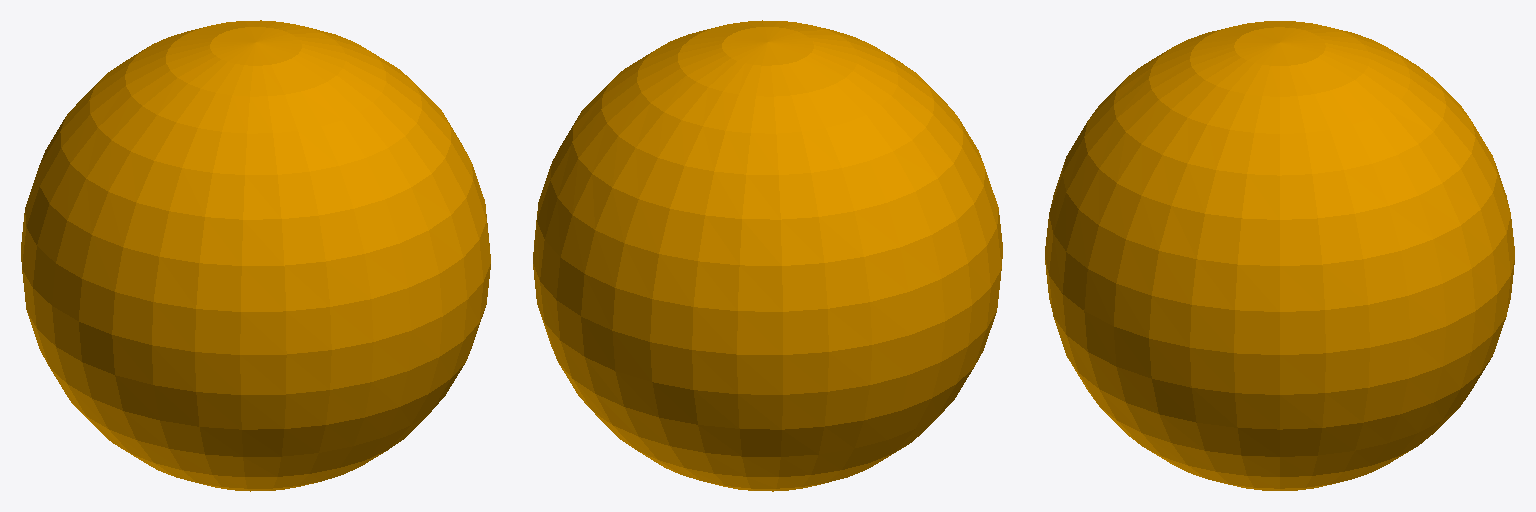
URDF robot description (light_kitchen):
<?xml version="1.0" ?>

<robot name="light_kitchen" xmlns:xi="http://www.w3.org/2001/XInclude"
	xmlns:gazebo="http://playerstage.sourceforge.net/gazebo/xmlschema/#gz"
	xmlns:model="http://playerstage.sourceforge.net/gazebo/xmlschema/#model"
	xmlns:sensor="http://playerstage.sourceforge.net/gazebo/xmlschema/#sensor"
	xmlns:body="http://playerstage.sourceforge.net/gazebo/xmlschema/#body"
	xmlns:geom="http://playerstage.sourceforge.net/gazebo/xmlschema/#geom"
	xmlns:joint="http://playerstage.sourceforge.net/gazebo/xmlschema/#joint"
	xmlns:interface="http://playerstage.sourceforge.net/gazebo/xmlschema/#interface"
	xmlns:rendering="http://playerstage.sourceforge.net/gazebo/xmlschema/#rendering"
	xmlns:renderable="http://playerstage.sourceforge.net/gazebo/xmlschema/#renderable"
	xmlns:controller="http://playerstage.sourceforge.net/gazebo/xmlschema/#controller"
	xmlns:physics="http://playerstage.sourceforge.net/gazebo/xmlschema/#physics">

  <link name="bulb_kitchen">
   <inertial>
	<mass value="1" />
			<com xyz="1.81 3.59 2.15" />
			<inertia ixx="0" ixy="0.0" ixz="0.0" iyy="0" iyz="0.0" izz="0" />
		</inertial>

		<visual>
			<origin xyz="1.81 3.59 2.15" rpy="0 0 0" />  <!--   definition of the visual postion of the object!! -->
			<geometry>
				<sphere radius="0.0001" />
			</geometry>
		</visual>
		<collision>
			<origin xyz="1.81 3.59 2.15" rpy="0 0 0" />
			<geometry>
				<sphere radius="0.0001" />
			</geometry>
		</collision>
	</link>

	<gazebo reference="bulb_kitchen">
		<model:renderable name="light_kitchen">
			<xyz>1.81 3.59 2.15</xyz>
			<static>true</static>
			<light>
				<type>point</type>
				<diffuseColor>0.1 0.1 0.1</diffuseColor>
				<specularColor>.01 .01 .01</specularColor>
				<attenuation>0.1 0.1 0.0001</attenuation>
				<range>4</range>
			</light>
		</model:renderable>
	</gazebo>
</robot>

--- What the picture shows (computed from the rendered views, not written in the file) ---
Views: 3 orthographic renders of the robot side by side, from view 1: azimuth 30°, elevation 25°; view 2: azimuth 150°, elevation 25°; view 3: azimuth 270°, elevation 25°.
Robot: light_kitchen — 1 links, 0 joints (none); root link bulb_kitchen; default pose: all joints at 0.
Links seen in each view (by area): view 1: bulb_kitchen; view 2: bulb_kitchen; view 3: bulb_kitchen.
Boxes of the visible links, bbox=[...] form: bulb_kitchen: bbox=[21, 20, 490, 491]; bulb_kitchen: bbox=[533, 20, 1002, 491]; bulb_kitchen: bbox=[1045, 21, 1514, 490].
Bounding box of the posed robot: 0.0002 × 0.0002 × 0.0002 m (x, y, z).
Geometry: primitives only (box / cylinder / sphere), no mesh files.